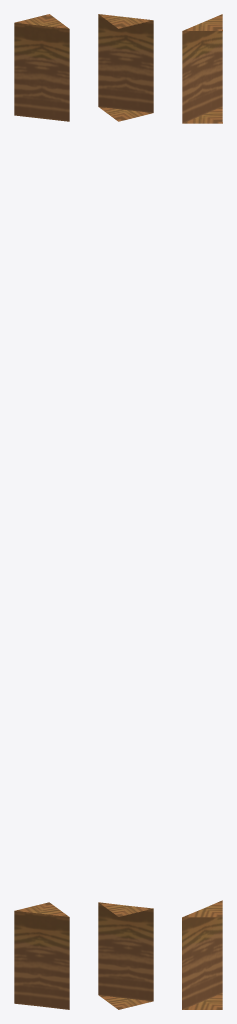
File: corner_exterior_top_down.gltf
3 views of the same model, side by side, from view 1: azimuth 30°, elevation 25°; view 2: azimuth 210°, elevation 25°; view 3: azimuth 270°, elevation 25° (orthographic).
Parts seen in each view (by area): view 1: Corner_Exterior_TopDown; view 2: Corner_Exterior_TopDown; view 3: Corner_Exterior_TopDown.
Part boxes in pixels (x1=…): Corner_Exterior_TopDown: x1=14, y1=14, x2=69, y2=1009; Corner_Exterior_TopDown: x1=98, y1=14, x2=153, y2=1009; Corner_Exterior_TopDown: x1=182, y1=14, x2=222, y2=1009.
Size of the model in its own units: 0.093 by 2.47 by 0.093.
Materials: 1 (1 with a texture image).
